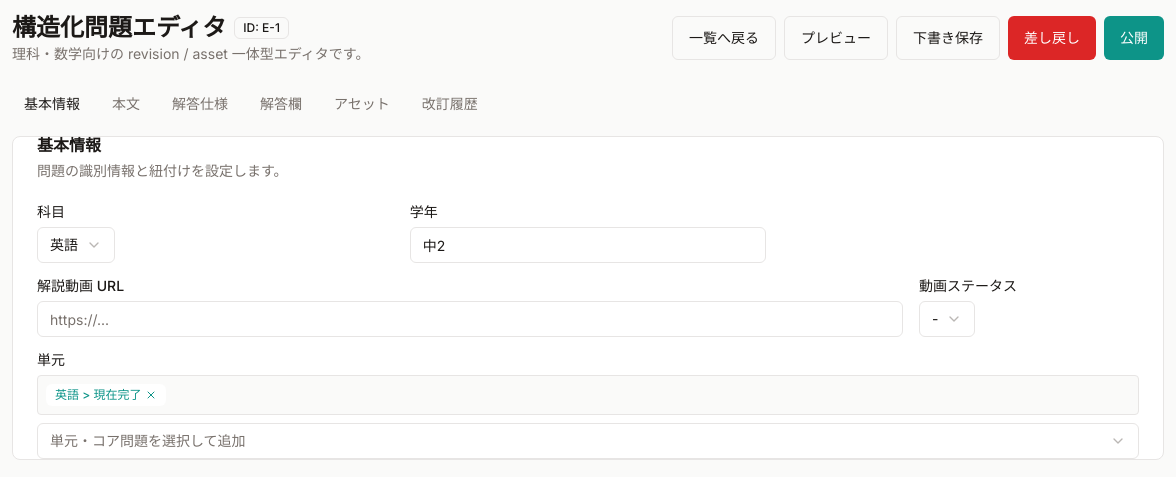
Test: ProblemEditorClient › 採点タブを表示せず、解答仕様だけを編集できる
Press the mouse on the tab "解答仕様": {"x": 200, "y": 104} [160, 88, 240, 120]
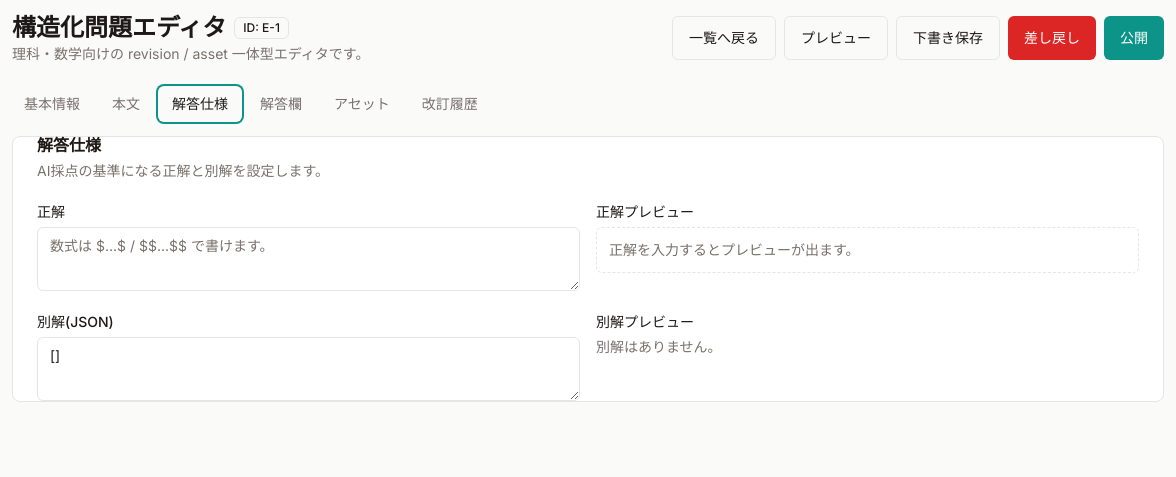
Expected: the text "正解" is shown, [37, 203, 65, 220]
Expected: the text "別解(JSON)" is shown, [37, 313, 114, 330]
